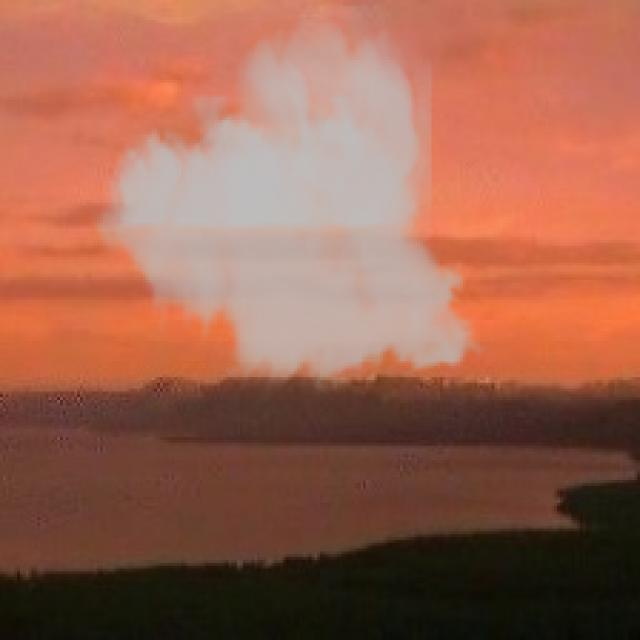smoke: (83, 6, 494, 397)
